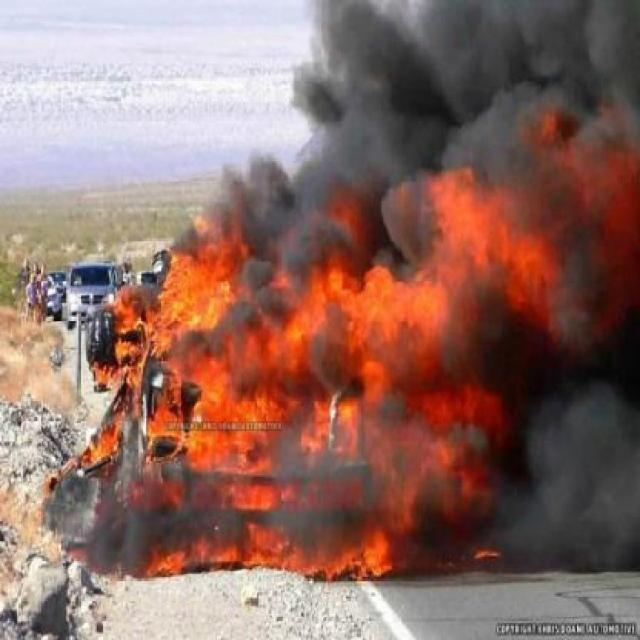Fire: (107, 104, 640, 592)
Smoke: (167, 0, 640, 303), (429, 302, 640, 604)
